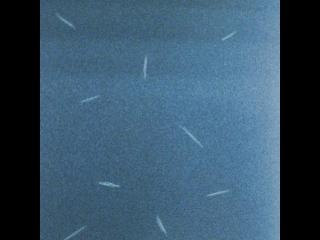scratch: (52, 9, 80, 33), (201, 184, 235, 202), (179, 124, 204, 148), (152, 212, 171, 240), (139, 51, 152, 84), (93, 177, 123, 191), (78, 91, 105, 106), (60, 225, 87, 240), (217, 28, 239, 43)
